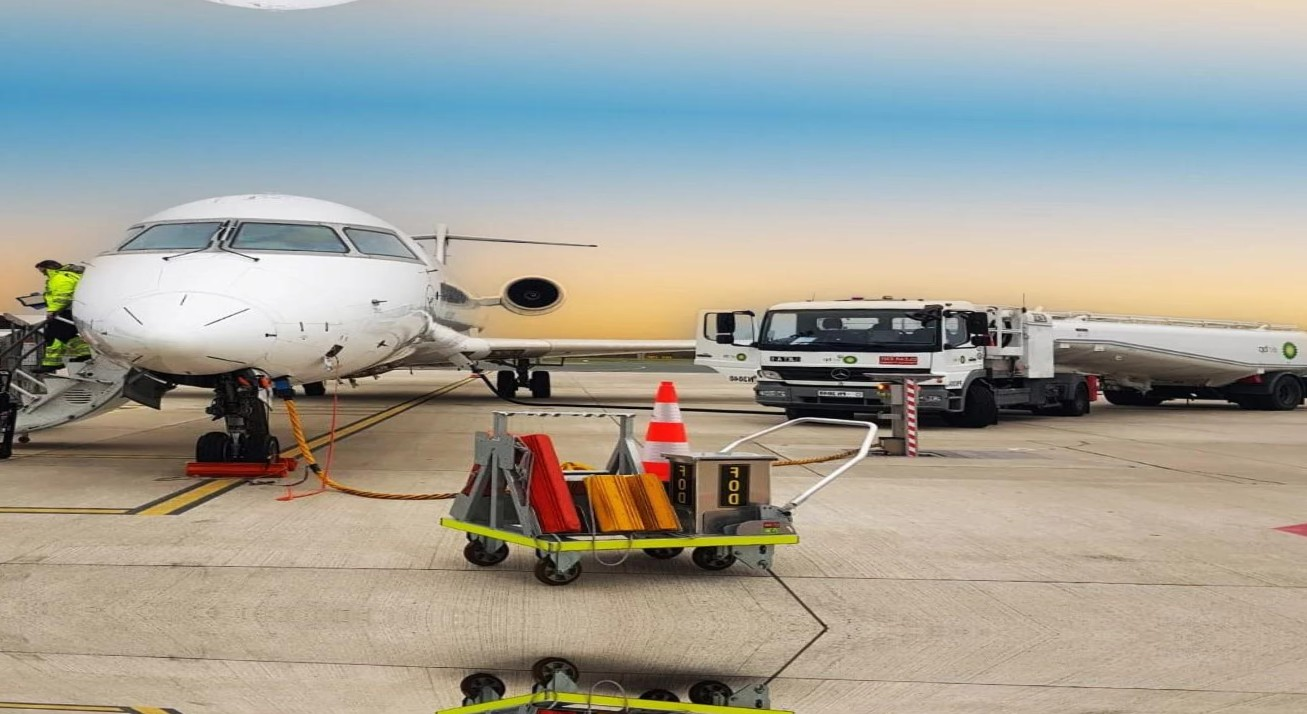chock: (506, 432, 586, 536), (624, 471, 685, 533), (584, 472, 645, 534)
wheel: (932, 381, 997, 428), (1240, 373, 1304, 412), (1100, 381, 1171, 406), (1048, 376, 1092, 416), (193, 430, 237, 464), (241, 430, 280, 465), (784, 406, 853, 425)
